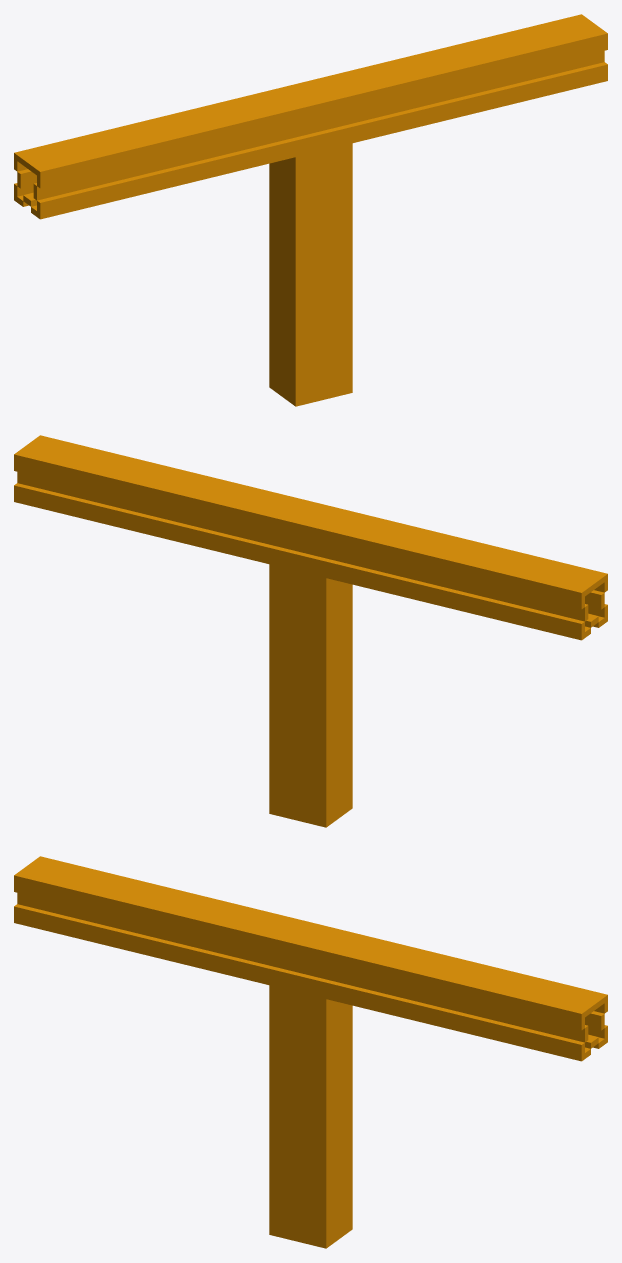
Rendered from GearChamberBeam.fbx.
3 renders of one model, top to bottom at view 1: azimuth 30°, elevation 25°; view 2: azimuth 150°, elevation 25°; view 3: azimuth 330°, elevation 25°, orthographic.
Visible parts, largest first — view 1: GearChamberBeam; view 2: GearChamberBeam; view 3: GearChamberBeam.
Boxes of the visible parts, x1,y1,x2,y2 form: GearChamberBeam: (14,14,607,406); GearChamberBeam: (14,435,607,827); GearChamberBeam: (14,856,607,1248).
Bounding box in the file's own units: 5000 × 2500 × 400.
